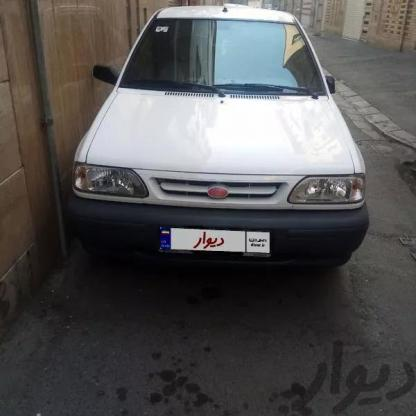Car: (64, 0, 371, 302)
